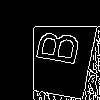B: (25, 26, 81, 67)
